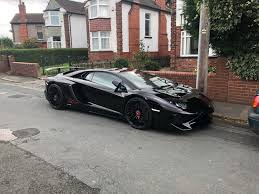Lamborghini: (51, 66, 205, 129)
